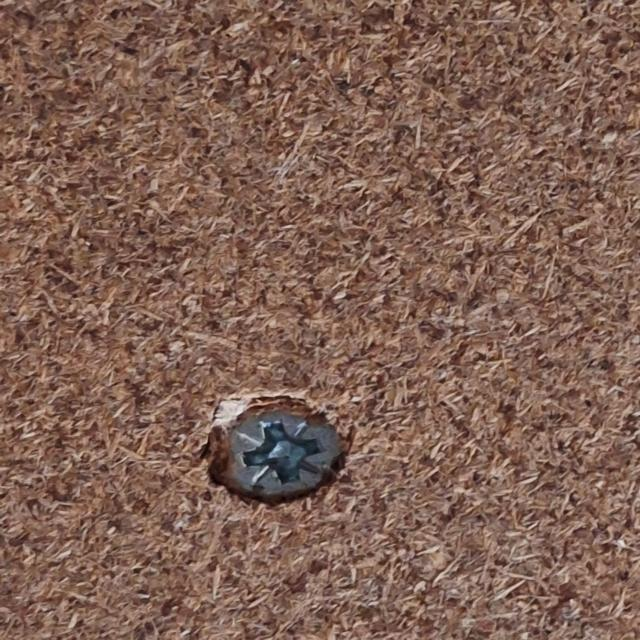Pozidriv: (211, 414, 348, 506)
